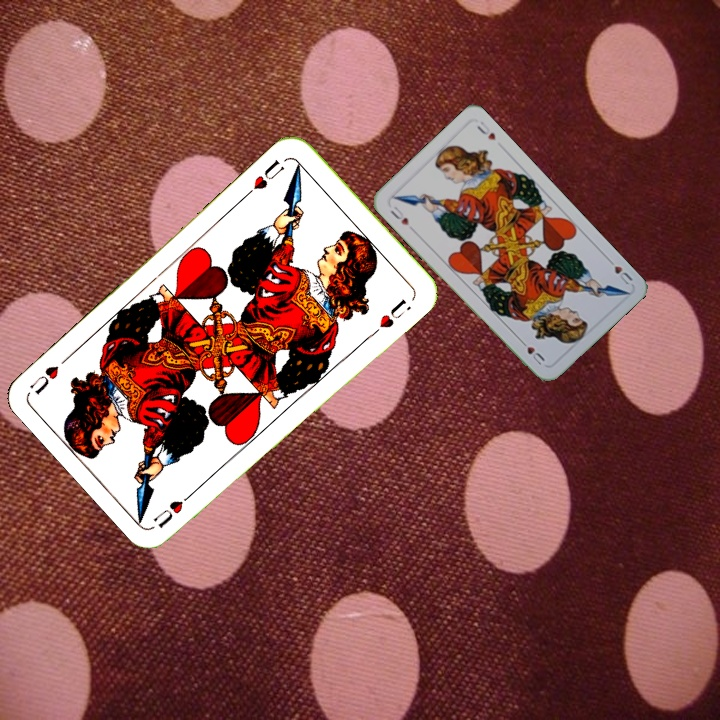HU: (149, 485, 199, 531), (242, 155, 287, 199), (603, 254, 636, 289), (386, 202, 412, 228)
